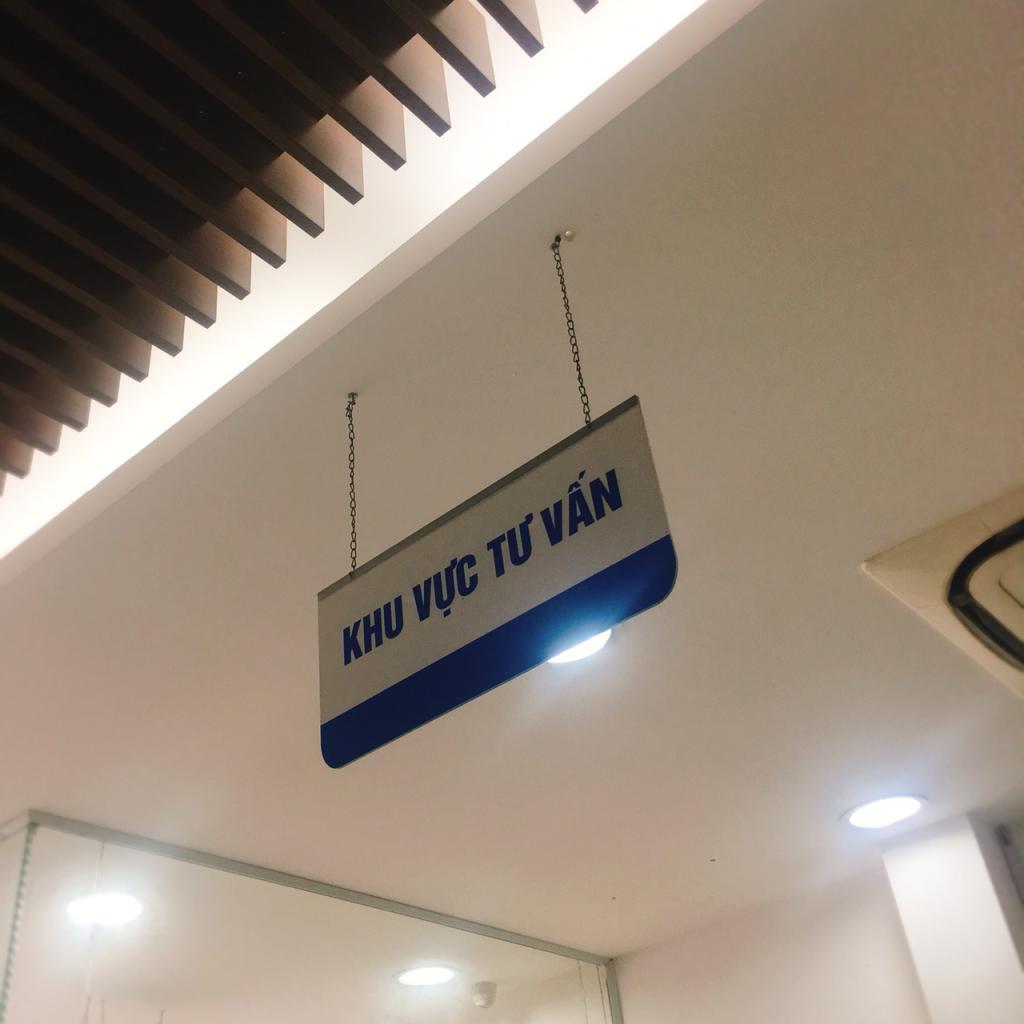text: (409, 544, 484, 635), (342, 590, 406, 669), (483, 507, 540, 584)
